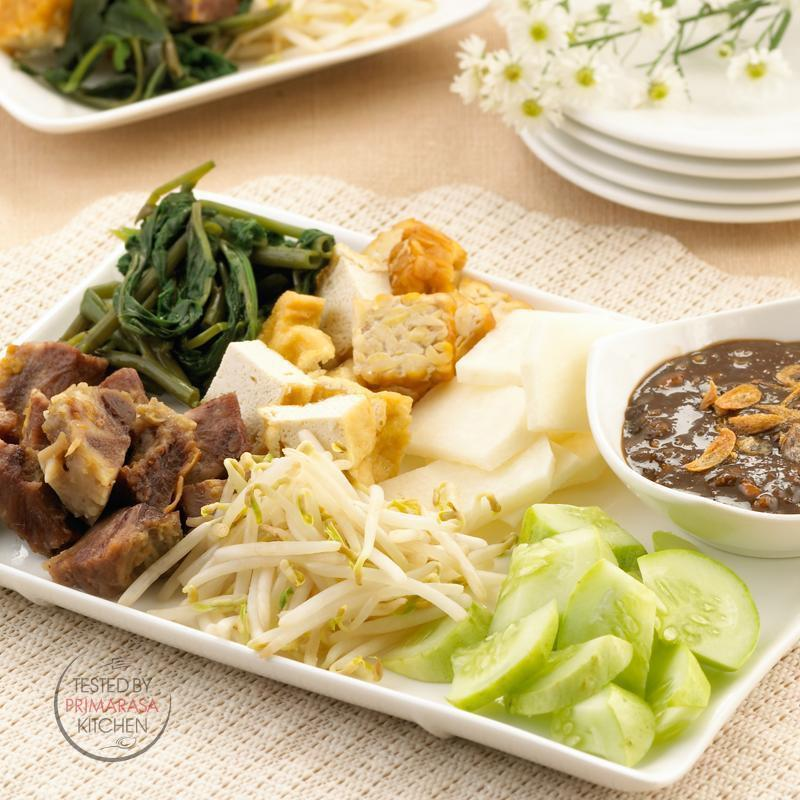rujak_cingur: (3, 161, 800, 766)
